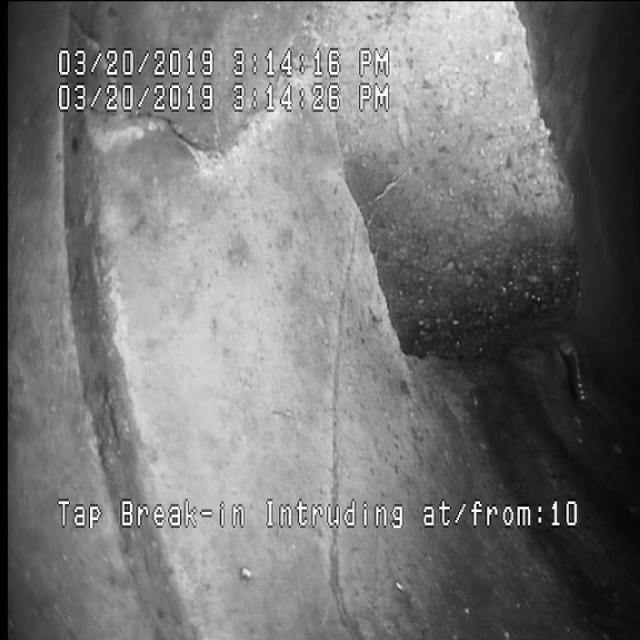Crack: (302, 198, 374, 462), (154, 104, 243, 190)
